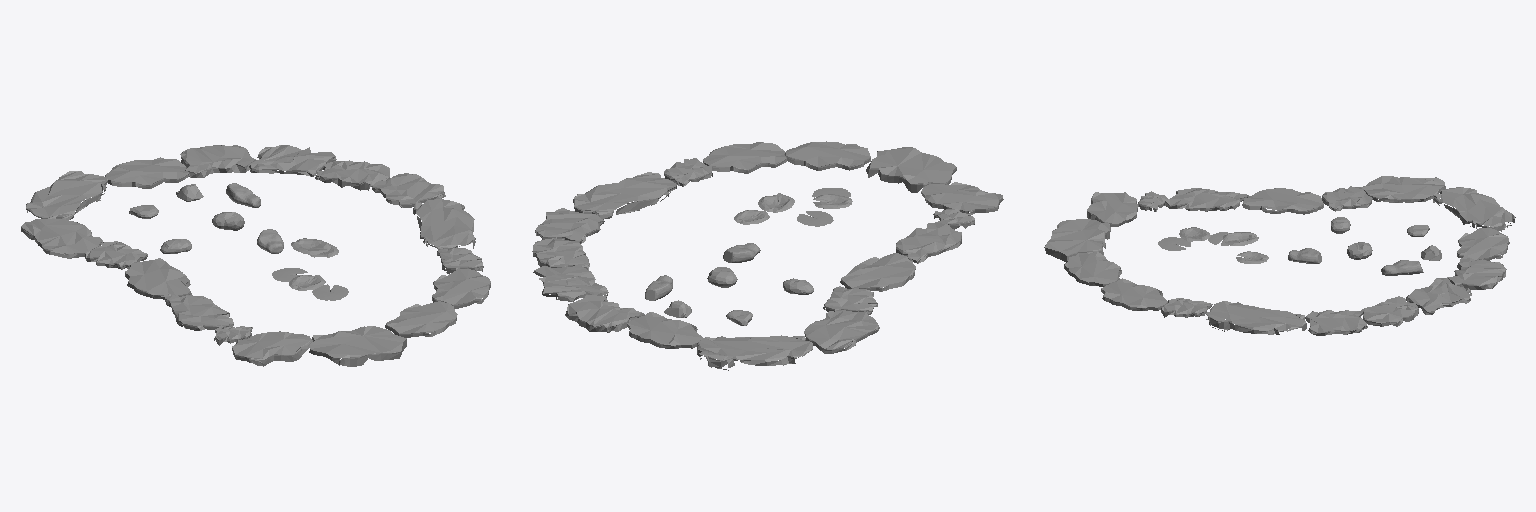
robot.urdf — etang_envir:
<?xml version="1.0"?>
<!-- meshes from http://tf3dm.com/ -->
<robot name="etang_envir">
  <material name="Blue"> <!-- for spheres -->
    <color rgba="0 0 1 0.5"/>
  </material>
  <material name="White"> <!-- for bones -->
    <color rgba="1 1 1 1"/>
  </material>
  <material name="Gray"> <!-- for bones -->
    <color rgba="0.6 0.6 0.6 1"/>
  </material>

   <link name="base_link">
      <inertial>
         <origin rpy="0 0 0" xyz="0 0 0"/>
         <mass value="8.4552"/>
         <inertia ixx="0" ixy="0" ixz="0" iyy="0" iyz="0" izz="0"/>
      </inertial>
      <visual>
         <origin xyz="0 0 0" rpy="0 0 0"/>
         <geometry>
            <mesh filename="package://hpp-rbprm-corba/meshes/etang_envir.stl"/>
         </geometry>
         <material name="Gray"/>
      </visual>
      <collision>
         <origin xyz="0 0 0" rpy="0 0 0"/>
         <geometry>
            <mesh filename="package://hpp-rbprm-corba/meshes/etang_envir.stl"/>
         </geometry>
      </collision>
   </link>

</robot>

--- Render facts (derived) ---
The picture shows the robot from 3 angles, left to right: view 1: azimuth 30°, elevation 25°; view 2: azimuth 150°, elevation 25°; view 3: azimuth 270°, elevation 25°; orthographic projection.
Robot: etang_envir — 1 links, 0 joints (none); root link base_link; default pose: all joints at 0.
Visible links, largest first — view 1: base_link; view 2: base_link; view 3: base_link.
Link boxes in pixels (box(x1,y1,x2,y2)): base_link: box(21, 145, 490, 366); base_link: box(532, 141, 1003, 370); base_link: box(1044, 176, 1515, 335).
Bounding box of the posed robot: 9.29 × 11.76 × 0.785 m (x, y, z).
1 mesh visuals loaded from 1 distinct referenced files (1 binary STL).
